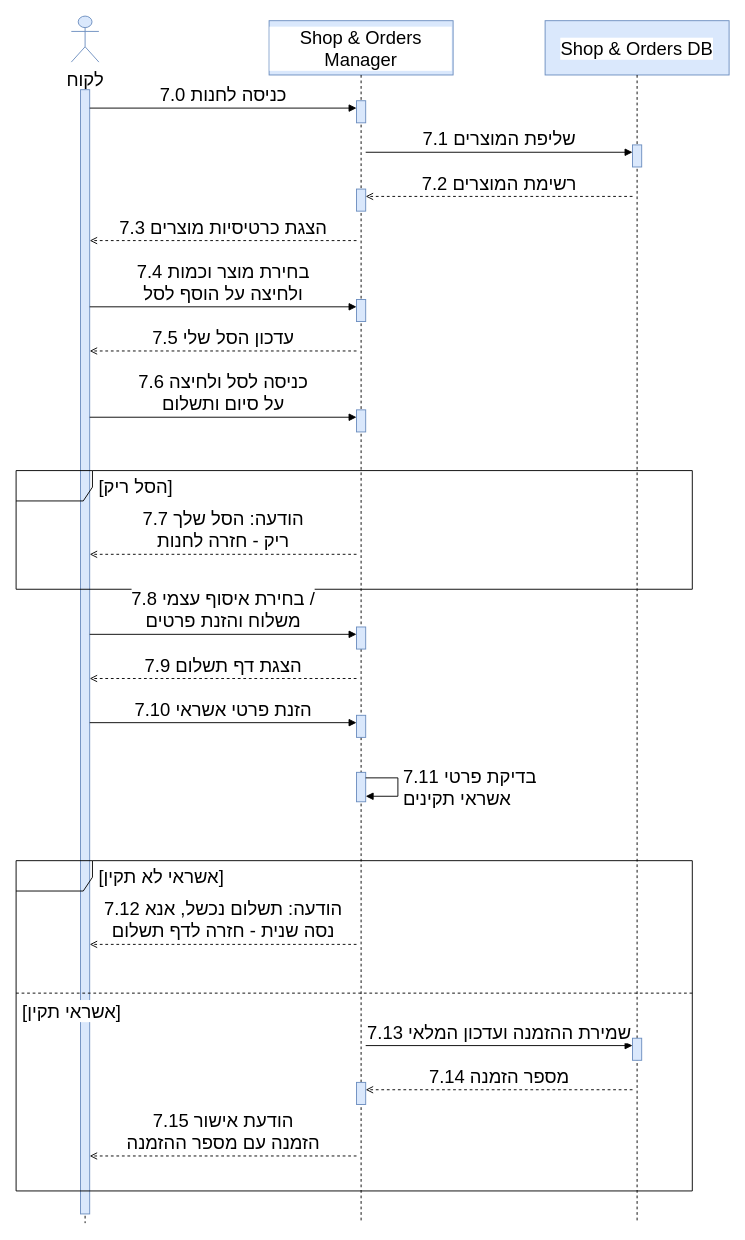
Some shapes in this 745 by 1240 pixel diagram are drawn without their labels. The shapes that lost their labels are listed below. From the top down, each one's box as (x1, y1, x2, y2) in pixels, then its label:
(15, 470, 692, 589): break
(15, 860, 692, 1191): alt
